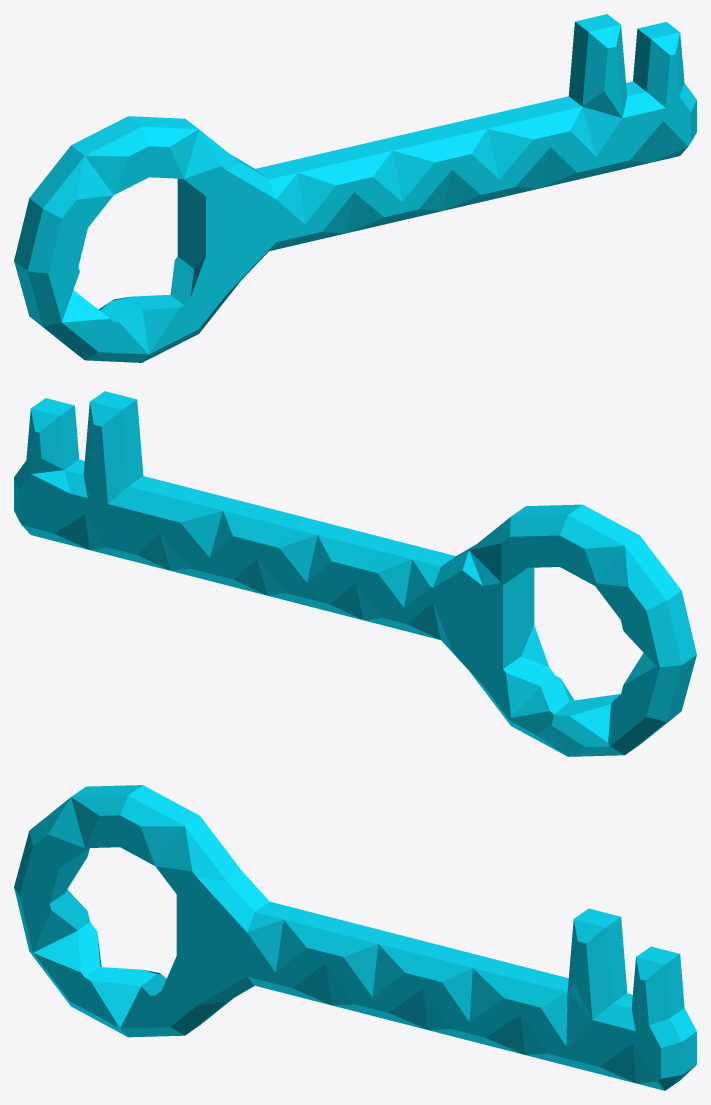
The model's file is blue.glb.
The picture shows the model from 3 angles, top to bottom: view 1: azimuth 30°, elevation 25°; view 2: azimuth 150°, elevation 25°; view 3: azimuth 330°, elevation 25°; orthographic projection. The views are drawn at different scales.
Visible parts, largest first — view 1: Circle.025; view 2: Circle.025; view 3: Circle.025.
Part boxes in pixels (x1,y1,x2,y2): Circle.025: (14,14,696,362); Circle.025: (14,391,696,756); Circle.025: (14,785,696,1090).
Bounding box in the file's own units: 1.89 × 0.6454 × 0.2163.
Materials: 1 (1 with a texture image).
